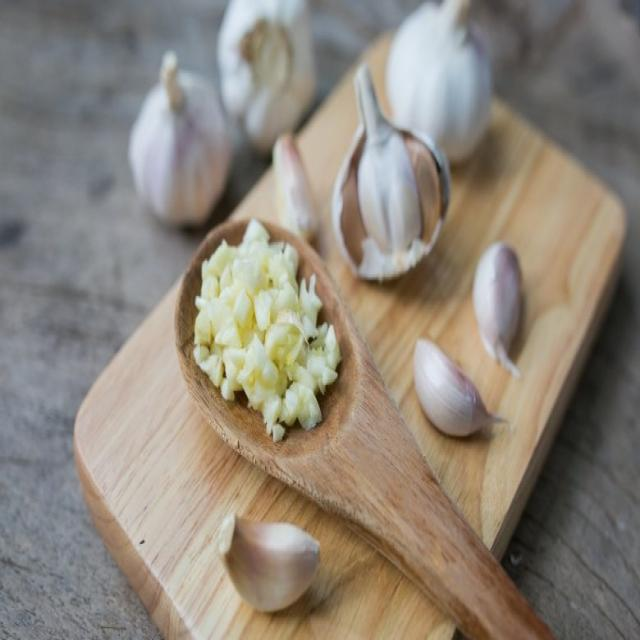garlic: (331, 63, 448, 278), (128, 50, 230, 223), (385, 0, 490, 159), (217, 0, 313, 149), (217, 512, 318, 608), (413, 337, 505, 433), (472, 241, 519, 375), (272, 133, 316, 245)
